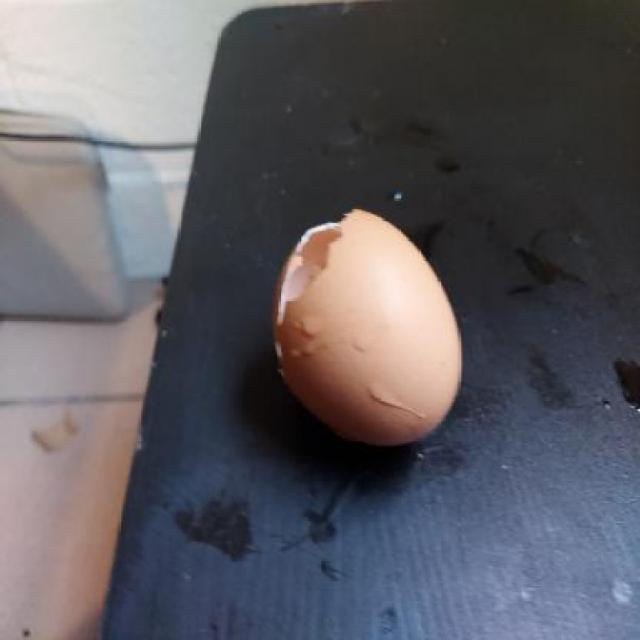biodegradable: (269, 204, 471, 462)
